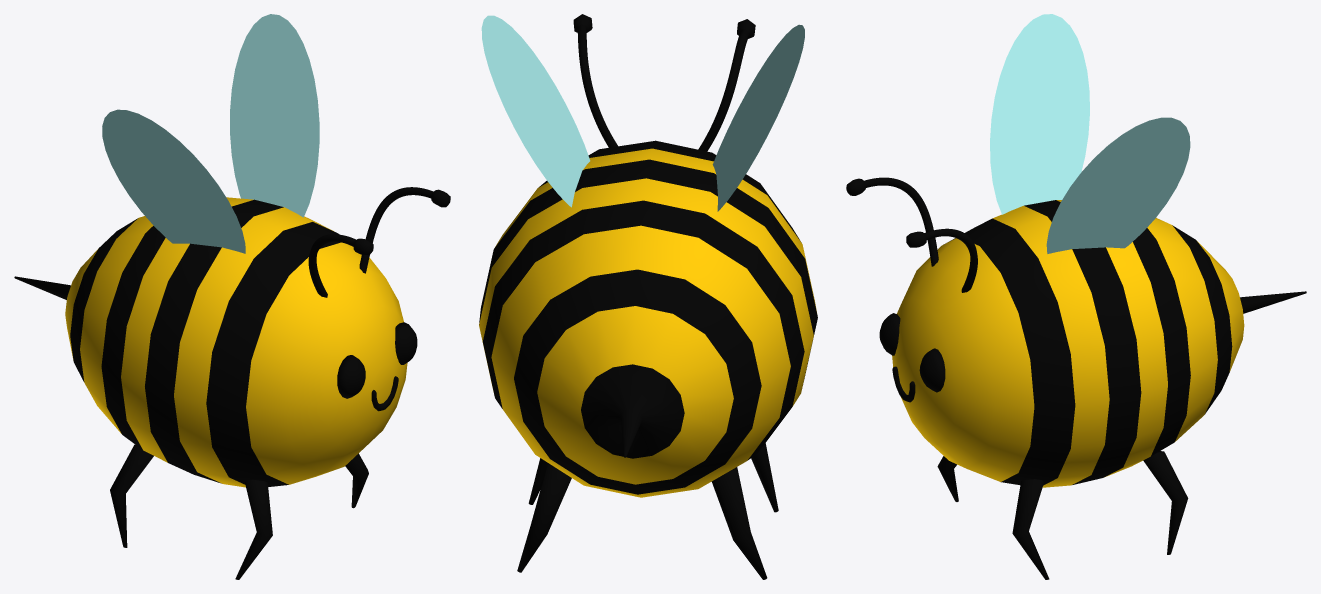
Rendered from Bee.fbx.
3 renders of one model, left to right at view 1: azimuth 30°, elevation 25°; view 2: azimuth 150°, elevation 25°; view 3: azimuth 270°, elevation 25°, orthographic. The views are drawn at different scales.
Visible parts, largest first — view 1: Cylinder.002, Cylinder.000; view 2: Cylinder.002, Cylinder.000; view 3: Cylinder.002, Cylinder.000.
Boxes of the visible parts, x1,y1,x2,y2 form: Cylinder.002: (14,14,450,579); Cylinder.000: (66,14,449,486); Cylinder.002: (479,14,817,579); Cylinder.000: (480,15,813,496); Cylinder.002: (846,14,1306,579); Cylinder.000: (847,14,1243,486).
Size of the model in its own units: 2.5 by 4.07 by 3.74.
